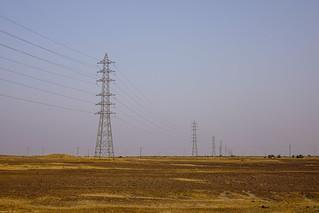power_tower: (91, 54, 121, 163)
